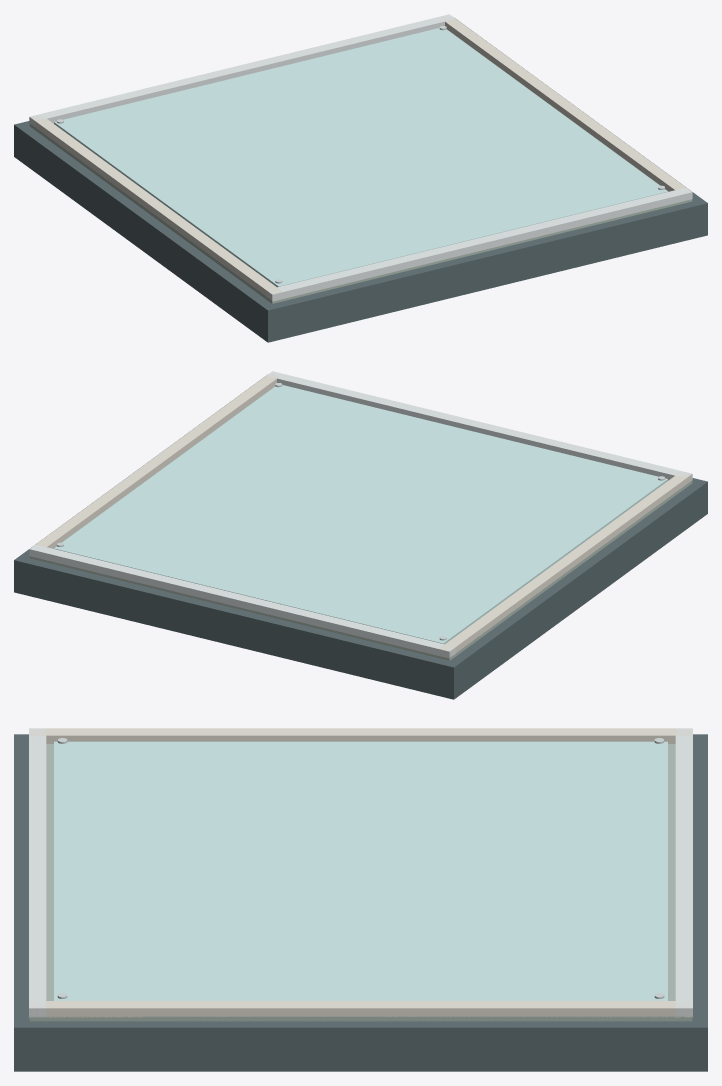
File: s7-lf3-glass-floor-square-1m.glb
3 renders of one model, top to bottom at view 1: azimuth 30°, elevation 25°; view 2: azimuth 150°, elevation 25°; view 3: azimuth 270°, elevation 25°, orthographic. The views are drawn at different scales.
Parts seen in each view (by area): view 1: 003_protected_glass_diffuser, 000_reinforced_floor_chassis, 005_metallic_frame_rail, 004_metallic_frame_rail, 006_cream_frame_rail, 007_cream_frame_rail, 001_cream_sage_inner_frame; view 2: 003_protected_glass_diffuser, 000_reinforced_floor_chassis, 004_metallic_frame_rail, 005_metallic_frame_rail, 006_cream_frame_rail, 007_cream_frame_rail, 001_cream_sage_inner_frame; view 3: 003_protected_glass_diffuser, 000_reinforced_floor_chassis, 007_cream_frame_rail, 006_cream_frame_rail, 001_cream_sage_inner_frame, 005_metallic_frame_rail, 004_metallic_frame_rail.
Part boxes in pixels (<box>): 003_protected_glass_diffuser: <box>54,28,667,287</box>; 000_reinforced_floor_chassis: <box>14,17,707,342</box>; 005_metallic_frame_rail: <box>266,187,692,301</box>; 004_metallic_frame_rail: <box>29,14,455,127</box>; 006_cream_frame_rail: <box>30,115,282,298</box>; 007_cream_frame_rail: <box>442,17,685,193</box>; 001_cream_sage_inner_frame: <box>29,29,692,303</box>; 003_protected_glass_diffuser: <box>54,385,667,644</box>; 000_reinforced_floor_chassis: <box>14,374,707,699</box>; 004_metallic_frame_rail: <box>29,544,455,658</box>; 005_metallic_frame_rail: <box>266,371,692,480</box>; 006_cream_frame_rail: <box>439,472,692,654</box>; 007_cream_frame_rail: <box>36,374,281,548</box>; 001_cream_sage_inner_frame: <box>29,386,692,660</box>; 003_protected_glass_diffuser: <box>54,741,667,1000</box>; 000_reinforced_floor_chassis: <box>14,734,707,1071</box>; 007_cream_frame_rail: <box>29,1001,692,1017</box>; 006_cream_frame_rail: <box>29,728,691,743</box>; 001_cream_sage_inner_frame: <box>29,744,692,1021</box>; 005_metallic_frame_rail: <box>29,728,46,1017</box>; 004_metallic_frame_rail: <box>675,728,692,1017</box>.
Bounding box in the file's own units: 1 × 0.0915 × 1.
